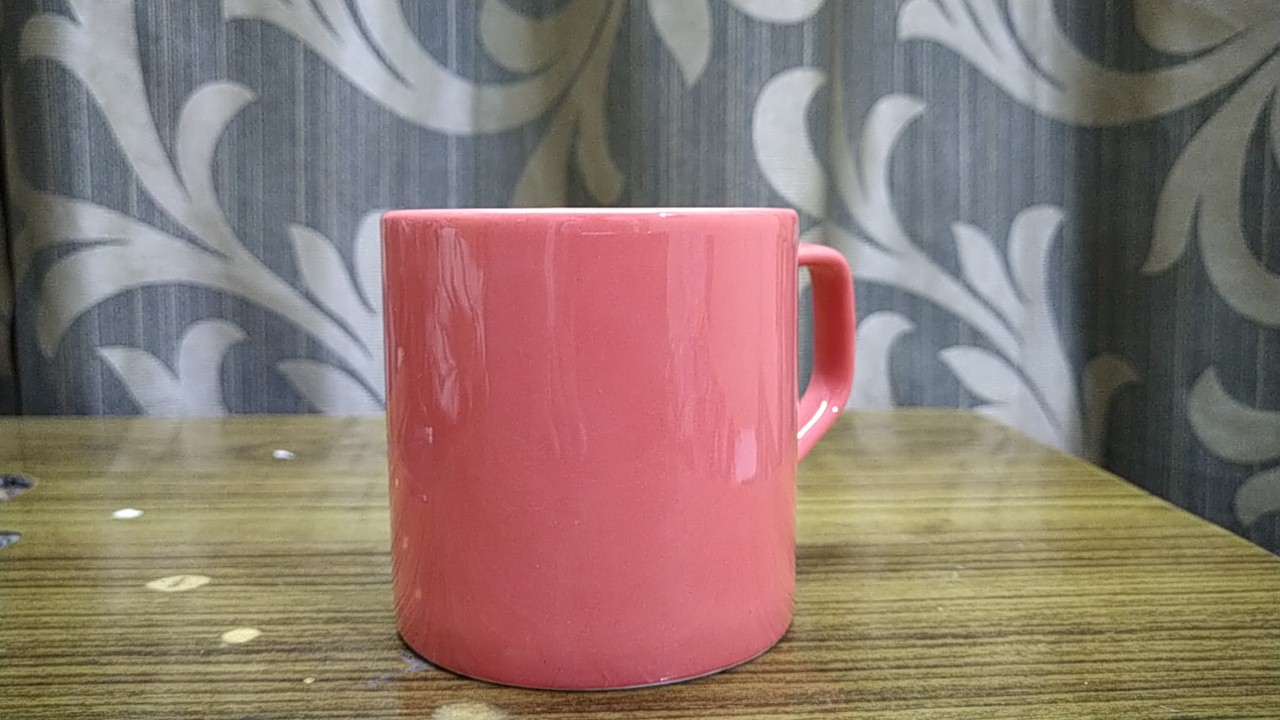cup: (368, 193, 873, 701)
